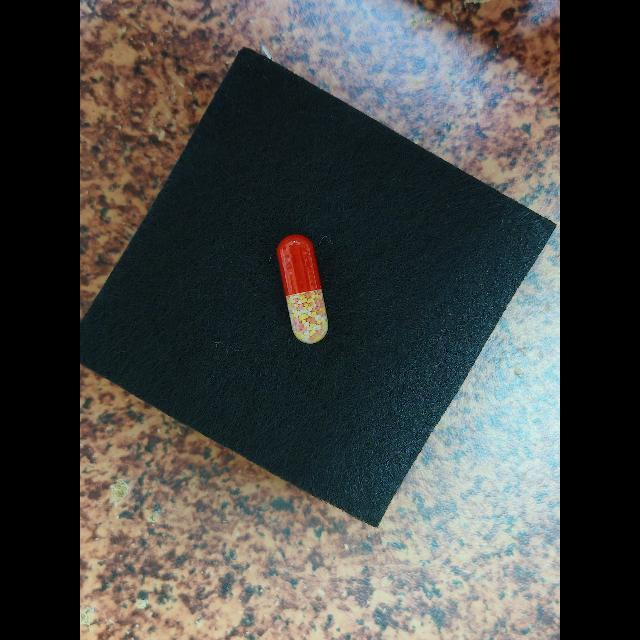Intact Capsule: (276, 234, 328, 344)
